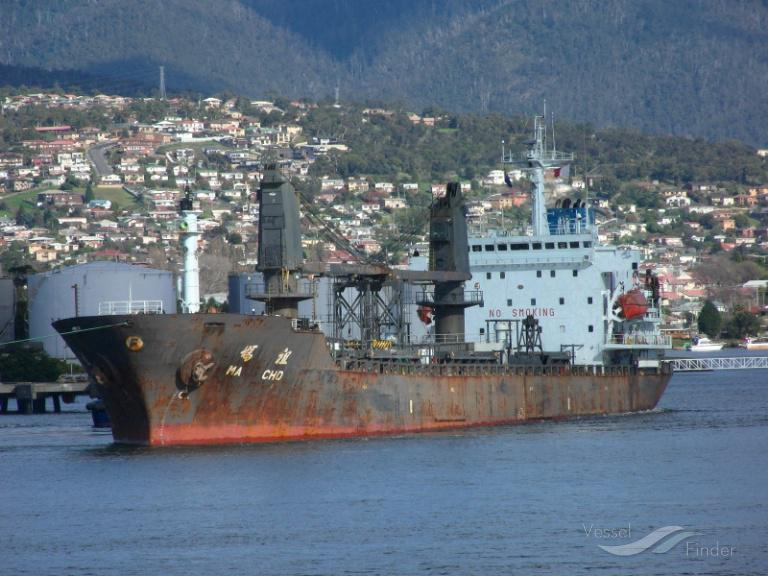OCR: (222, 348, 292, 387)
